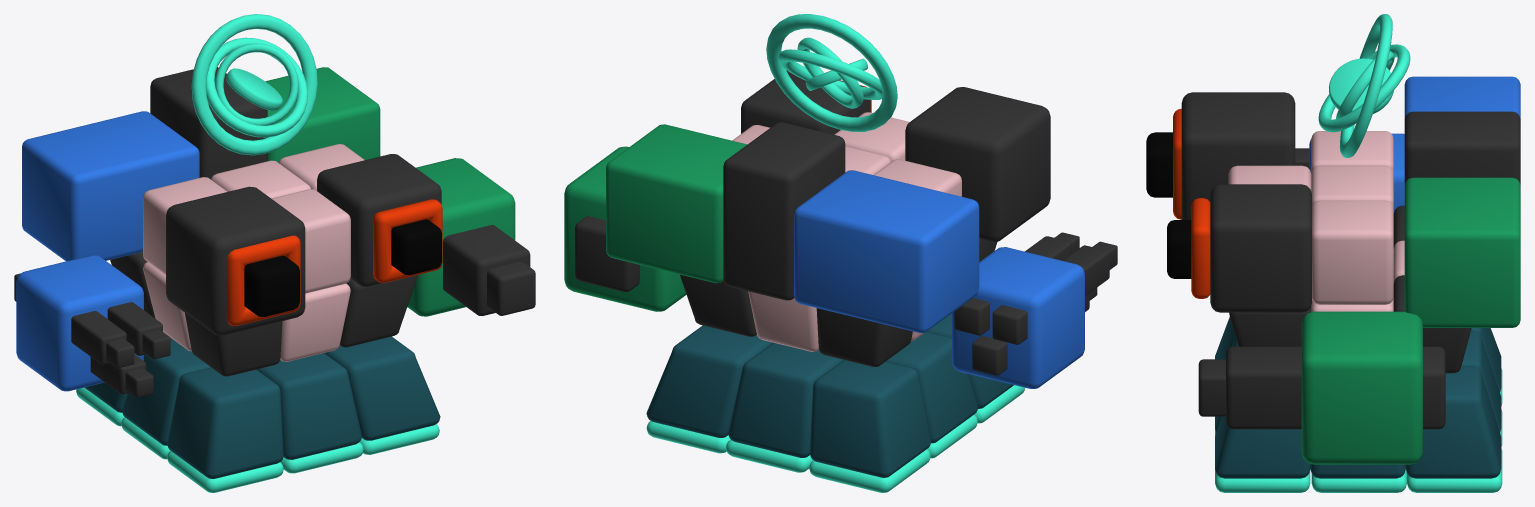
File: Robo.fbx
3 views of the same model, side by side, from view 1: azimuth 30°, elevation 25°; view 2: azimuth 150°, elevation 25°; view 3: azimuth 270°, elevation 25° (orthographic). The views are drawn at different scales.
Parts seen in each view (by area): view 1: Cube.017, Cube.026, Cube.024, Cube.029, Cube.018, Cube.021, Cube.023, Cube.027, Cube.014, Cube.011, Circle, Cube.020 (+30 smaller); view 2: Cube.017, Cube.014, Cube.026, Cube.011, Cube.029, Cube.015, Cube.009, Cube.012, Cube.027, Circle, Cube.006, Cube.016 (+18 smaller); view 3: Cube.027, Cube.014, Cube.023, Cube.026, Cube.005, Cube.034, Cube.011, Cube.012, Cube.021, Cube.017, Cube.002, Circle (+23 smaller).
Part boxes in pixels (x1,y1,x2,y2): Cube.017: (22, 111, 199, 261); Cube.026: (166, 186, 305, 335); Cube.024: (167, 367, 283, 478); Cube.029: (16, 255, 143, 391); Cube.018: (256, 353, 361, 459); Cube.021: (324, 336, 440, 440); Cube.023: (317, 154, 441, 286); Cube.027: (407, 158, 515, 316); Cube.014: (265, 67, 380, 162); Cube.011: (150, 67, 267, 179); Circle: (191, 14, 317, 155); Cube.020: (271, 189, 350, 293); Cube.017: (794, 170, 979, 333); Cube.014: (606, 124, 747, 283); Cube.026: (905, 87, 1050, 241); Cube.011: (723, 122, 845, 300); Cube.029: (952, 247, 1084, 388); Cube.015: (809, 360, 931, 477); Cube.009: (728, 342, 843, 457); Cube.012: (646, 325, 772, 437); Cube.027: (564, 146, 686, 311); Circle: (766, 14, 897, 131); Cube.006: (886, 332, 978, 443); Cube.016: (816, 308, 912, 366); Cube.027: (1301, 311, 1422, 464); Cube.014: (1404, 177, 1520, 327); Cube.023: (1210, 184, 1311, 312); Cube.026: (1181, 92, 1295, 219); Cube.005: (1312, 200, 1393, 304); Cube.034: (1226, 346, 1445, 429); Cube.011: (1404, 111, 1520, 184); Cube.012: (1405, 366, 1501, 478); Cube.021: (1215, 416, 1310, 478); Cube.017: (1404, 76, 1520, 118); Cube.002: (1311, 165, 1393, 207); Circle: (1339, 14, 1392, 157).
Size of the model in its own units: 669 by 555 by 454.
